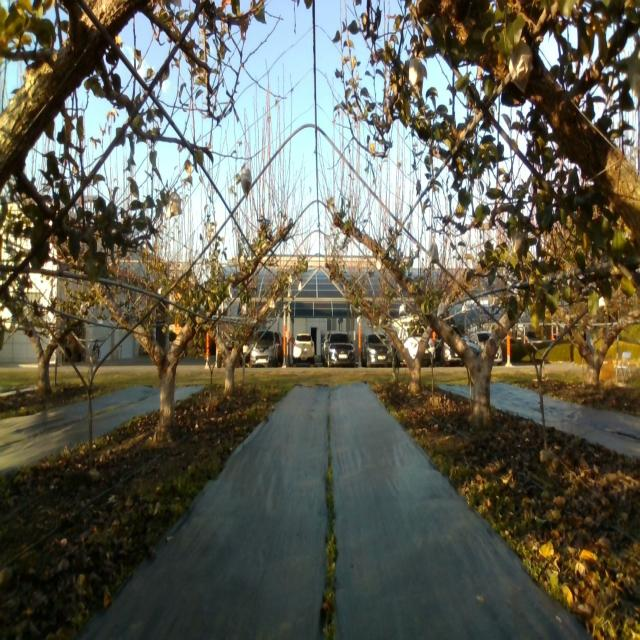pearbags: (409, 57, 424, 101), (241, 167, 252, 199), (168, 194, 182, 218), (429, 241, 439, 265)
